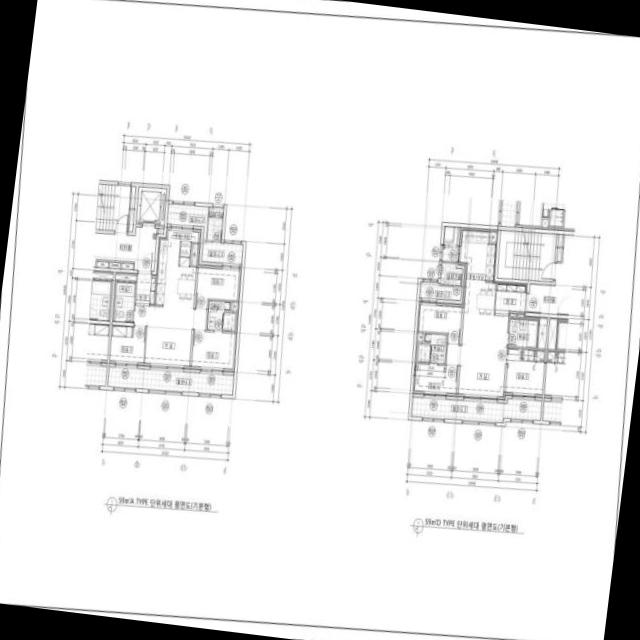background: (0, 0, 640, 640)
space_balconi: (167, 204, 243, 267), (108, 367, 233, 395), (411, 397, 541, 422), (419, 282, 461, 300), (442, 226, 458, 261)
space_bedroom: (195, 265, 241, 308), (505, 348, 545, 397), (417, 301, 461, 343), (191, 330, 236, 371), (412, 364, 457, 396), (109, 325, 145, 365)
space_elevator: (136, 186, 166, 225)
space_elevator_hall: (528, 234, 574, 315), (93, 227, 157, 271)
space_front: (495, 281, 527, 314), (135, 273, 156, 306)
space_kitchen: (155, 227, 201, 309), (458, 227, 496, 315)
space_living_room: (446, 313, 508, 399), (134, 305, 206, 368)
space_other: (128, 186, 136, 231), (537, 317, 547, 348), (191, 244, 200, 265), (115, 272, 136, 281), (557, 234, 562, 261), (489, 229, 497, 242), (96, 261, 108, 268), (231, 302, 239, 311), (121, 263, 133, 269), (109, 262, 120, 268), (416, 332, 423, 341), (510, 313, 525, 317), (158, 228, 163, 234)
space_outdoor_room: (207, 207, 223, 241), (440, 262, 462, 285)
space_staircase: (497, 230, 556, 282), (95, 184, 130, 231)
space_toilet: (113, 282, 135, 322), (417, 333, 446, 363), (207, 301, 235, 331), (508, 319, 537, 347)
